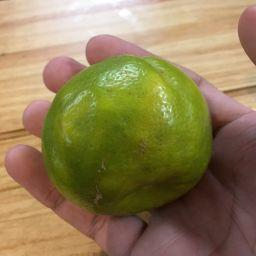Unripe: (42, 57, 213, 211)
